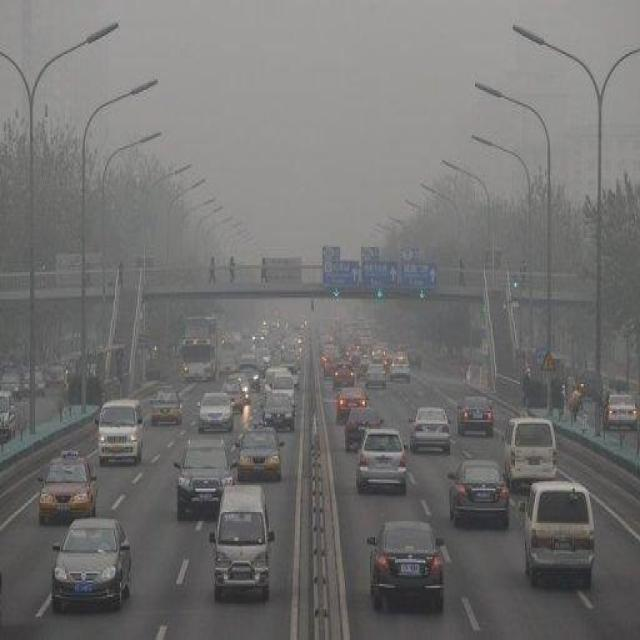Car: (523, 478, 596, 587), (52, 515, 132, 612), (366, 517, 448, 609), (174, 437, 237, 518), (37, 449, 99, 525), (446, 458, 511, 528), (355, 426, 408, 496), (96, 398, 144, 466), (234, 426, 284, 484), (409, 405, 452, 455), (344, 405, 384, 450), (197, 391, 236, 434), (456, 395, 494, 437), (261, 392, 296, 433), (149, 387, 183, 426), (604, 392, 638, 431), (335, 386, 368, 424), (0, 391, 19, 442), (364, 361, 388, 389), (332, 362, 357, 388), (1, 369, 22, 397)
Truck: (178, 314, 219, 380)
Van: (210, 484, 275, 600), (502, 416, 556, 492)
